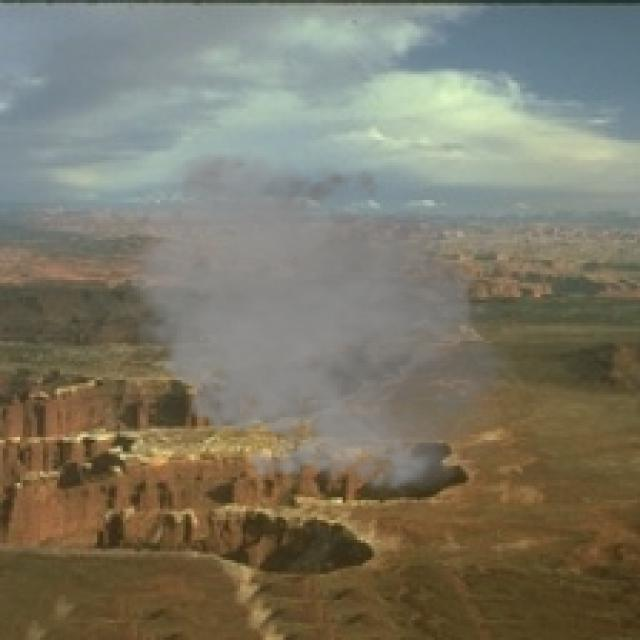smoke: (111, 146, 532, 503)
